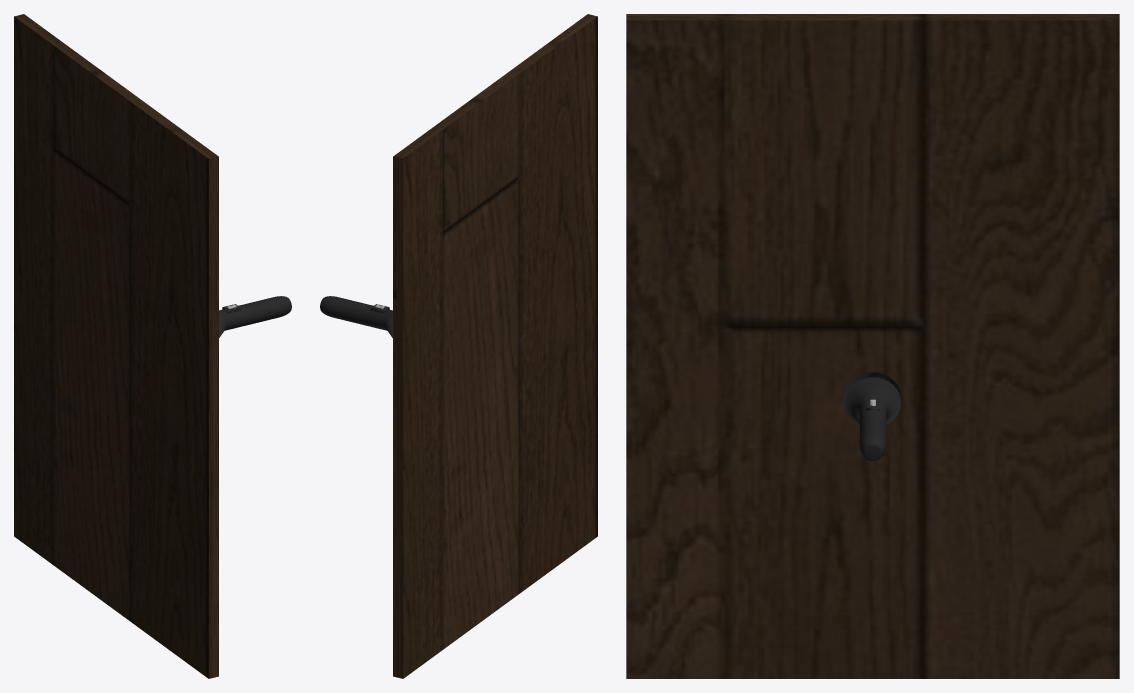
File: flash 1 (1).glb
The picture shows the model from 3 angles, left to right: view 1: azimuth 30°, elevation 25°; view 2: azimuth 150°, elevation 25°; view 3: azimuth 270°, elevation 25°; orthographic projection. The views are drawn at different scales.
Parts seen in each view (by area): view 1: Cube.001, Cube; view 2: Cube.001, Cube; view 3: Cube.001, Cube.
Part boxes in pixels (bbox=[...]): Cube.001: bbox=[14, 14, 218, 678]; Cube: bbox=[219, 296, 291, 337]; Cube.001: bbox=[393, 14, 597, 678]; Cube: bbox=[320, 296, 392, 337]; Cube.001: bbox=[626, 14, 1119, 678]; Cube: bbox=[844, 372, 901, 461].
Bounding box in the file's own units: 3.85 × 10.78 × 7.32.
Materials: 4 (3 with a texture image).
